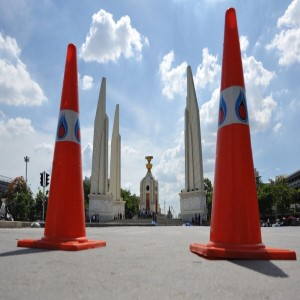traffic cone: (189, 7, 296, 261), (17, 43, 106, 252)
